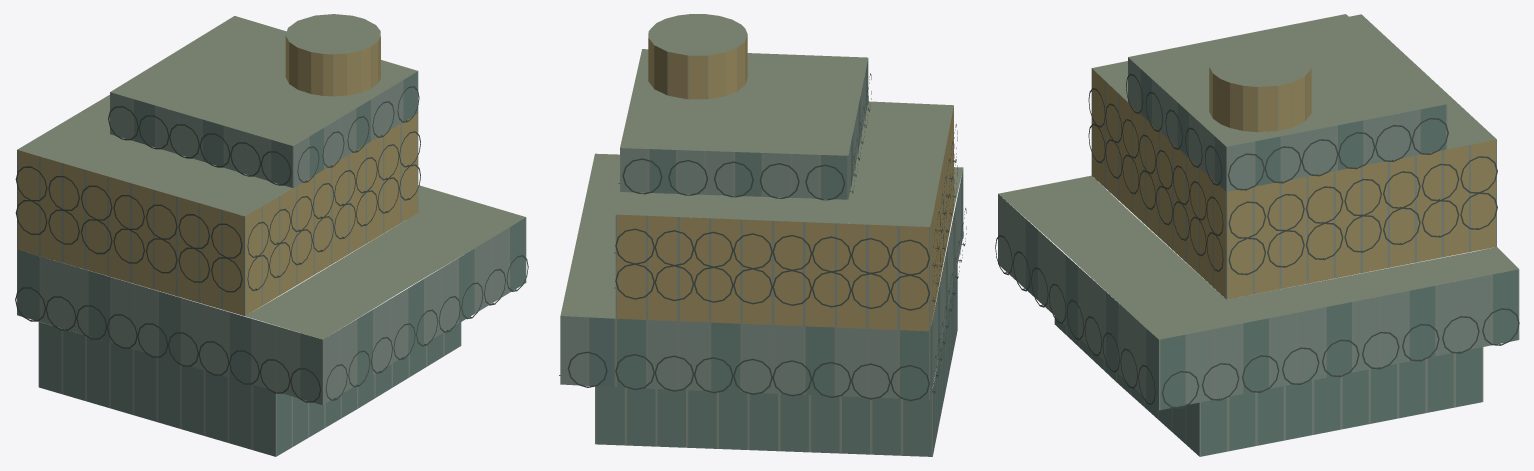
Rendered from library-of-birmingham-far.glb.
The picture shows the model from 3 angles, left to right: view 1: azimuth 30°, elevation 25°; view 2: azimuth 150°, elevation 25°; view 3: azimuth 270°, elevation 25°; orthographic projection. The views are drawn at different scales.
Parts seen in each view (by area): view 1: library-of-birmingham-0-roof, library-of-birmingham-0-gold, library-of-birmingham-0-glass, library-of-birmingham-0-silver, library-of-birmingham-0-frame, library-of-birmingham-0-iron; view 2: library-of-birmingham-0-roof, library-of-birmingham-0-gold, library-of-birmingham-0-glass, library-of-birmingham-0-silver, library-of-birmingham-0-frame, library-of-birmingham-0-iron; view 3: library-of-birmingham-0-roof, library-of-birmingham-0-gold, library-of-birmingham-0-glass, library-of-birmingham-0-silver, library-of-birmingham-0-frame, library-of-birmingham-0-iron.
Boxes of the visible parts, x1,y1,x2,y2 form: library-of-birmingham-0-roof: (17, 14, 525, 339); library-of-birmingham-0-gold: (18, 36, 417, 315); library-of-birmingham-0-glass: (18, 71, 525, 456); library-of-birmingham-0-silver: (41, 81, 508, 404); library-of-birmingham-0-frame: (17, 42, 526, 456); library-of-birmingham-0-iron: (15, 86, 528, 402); library-of-birmingham-0-roof: (560, 14, 963, 318); library-of-birmingham-0-gold: (617, 35, 953, 331); library-of-birmingham-0-glass: (589, 59, 963, 456); library-of-birmingham-0-silver: (561, 72, 960, 398); library-of-birmingham-0-frame: (560, 45, 960, 456); library-of-birmingham-0-iron: (559, 73, 966, 401); library-of-birmingham-0-roof: (998, 14, 1518, 339); library-of-birmingham-0-gold: (1092, 68, 1495, 299); library-of-birmingham-0-glass: (1025, 69, 1518, 456); library-of-birmingham-0-silver: (998, 58, 1490, 404); library-of-birmingham-0-frame: (998, 57, 1519, 456); library-of-birmingham-0-iron: (995, 73, 1519, 408).
Bounding box in the file's own units: 83.59 × 60 × 84.04.
